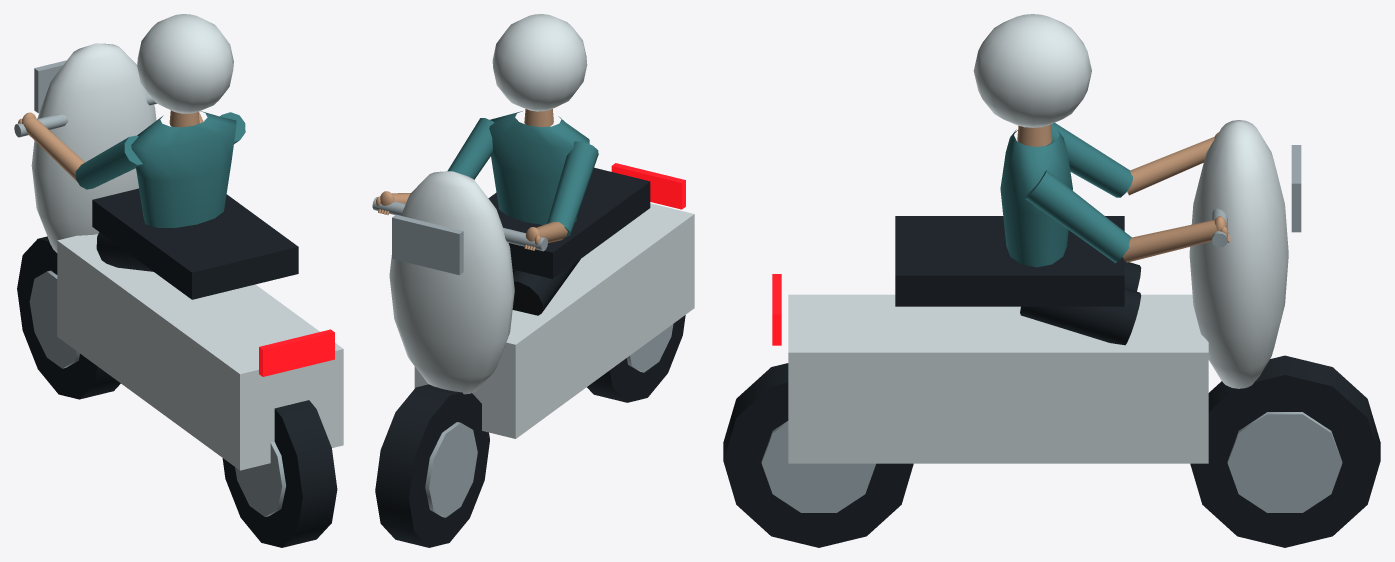
Rendered from traffic-scooter.glb.
The picture shows the model from 3 angles, left to right: view 1: azimuth 30°, elevation 25°; view 2: azimuth 150°, elevation 25°; view 3: azimuth 270°, elevation 25°; orthographic projection. The views are drawn at different scales.
Parts seen in each view (by area): view 1: lod_body, lod_dark, lod_accent, lod_metal, brake_lights, lod_skin; view 2: lod_body, lod_dark, lod_accent, lod_metal, lod_skin, brake_lights; view 3: lod_body, lod_dark, lod_metal, lod_accent, lod_skin.
Boxes of the visible parts, bbox=[...] form: lod_body: bbox=[31, 14, 343, 470]; lod_dark: bbox=[17, 188, 337, 547]; lod_accent: bbox=[75, 111, 245, 227]; lod_metal: bbox=[14, 60, 286, 516]; brake_lights: bbox=[259, 329, 334, 376]; lod_skin: bbox=[18, 110, 203, 182]; lod_body: bbox=[389, 14, 694, 438]; lod_dark: bbox=[375, 167, 685, 547]; lod_accent: bbox=[447, 111, 598, 236]; lod_metal: bbox=[372, 197, 673, 517]; lod_skin: bbox=[376, 109, 567, 250]; brake_lights: bbox=[611, 163, 685, 209]; lod_body: bbox=[788, 14, 1288, 463]; lod_dark: bbox=[723, 216, 1380, 547]; lod_metal: bbox=[761, 145, 1342, 512]; lod_accent: bbox=[1000, 122, 1132, 267]; lod_skin: bbox=[1017, 124, 1230, 262].
Size of the model in its own units: 0.6 by 1.5 by 1.72.
